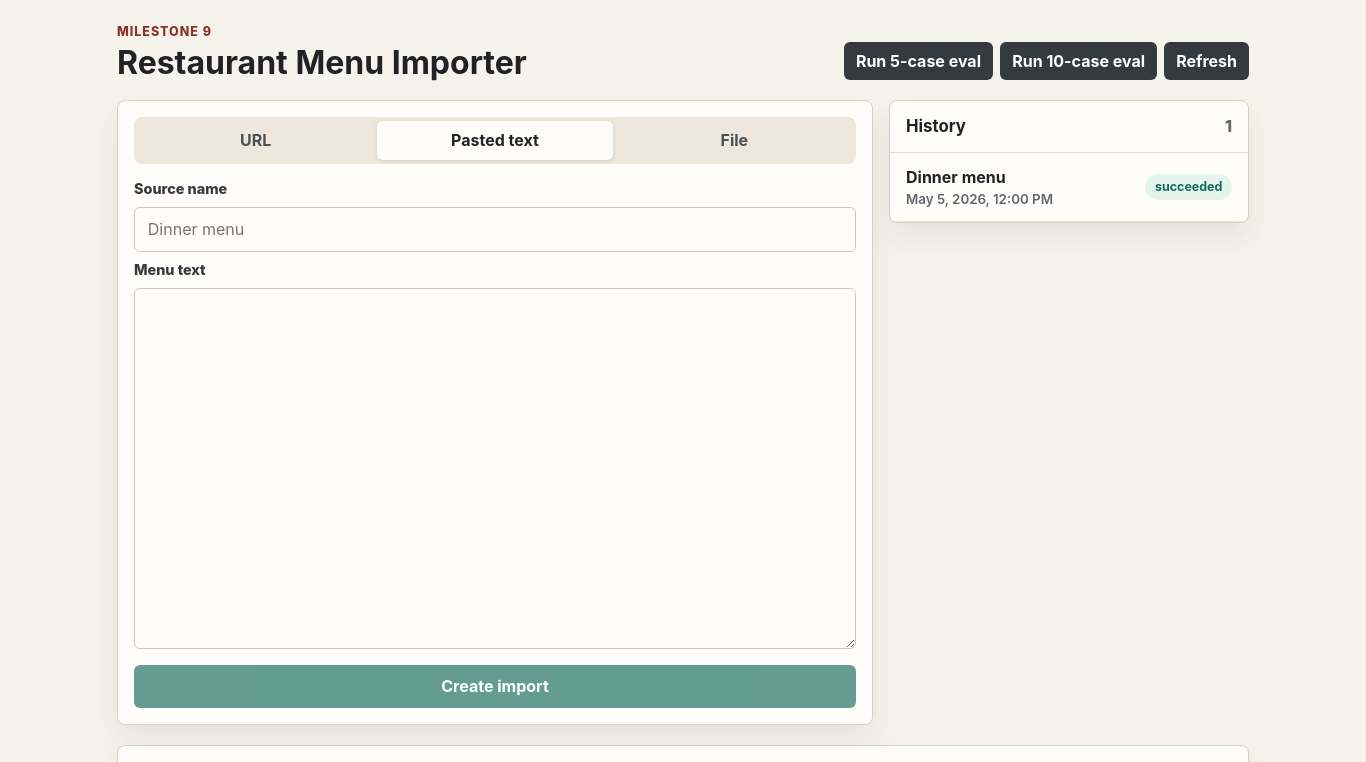
Test: App › runs the evaluation dashboard
Click the button "Run 10-case eval". click: (1079, 61)
box: [1000,42,1157,80]
(page scrolled)
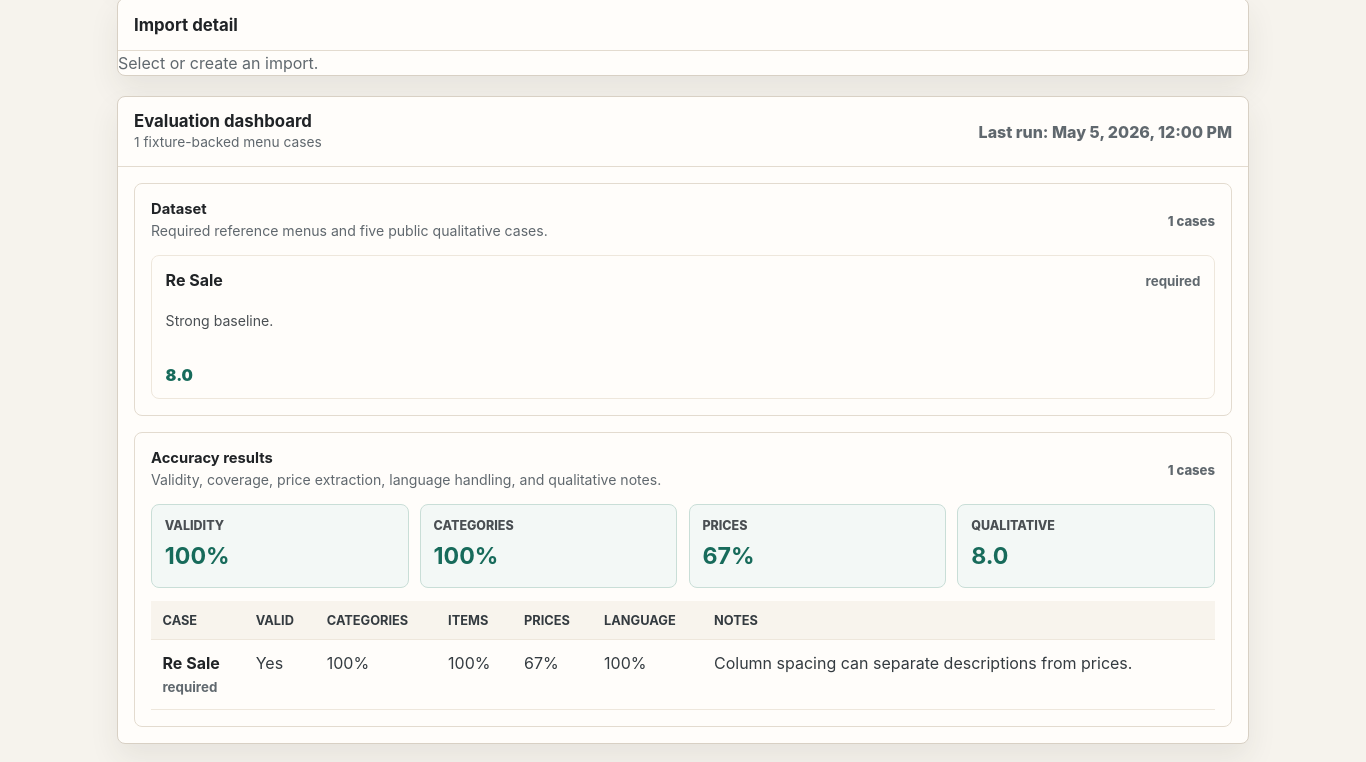
Expected: the heading "Accuracy results" is shown, [151,449,273,467]
Now the text "67%" is shown, box [702,542,754,570]
